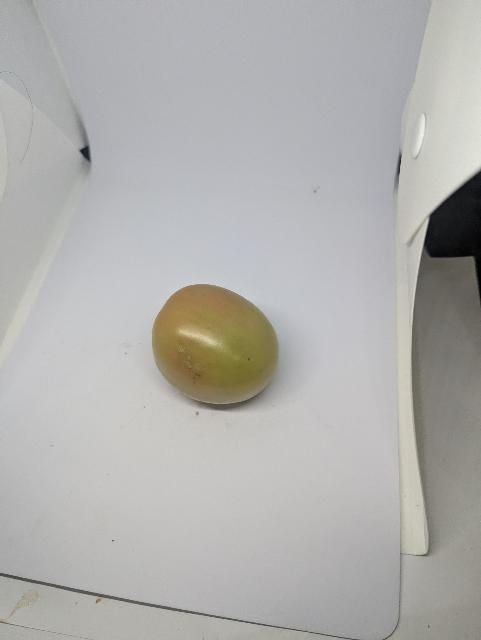breaker: (152, 284, 279, 404)
